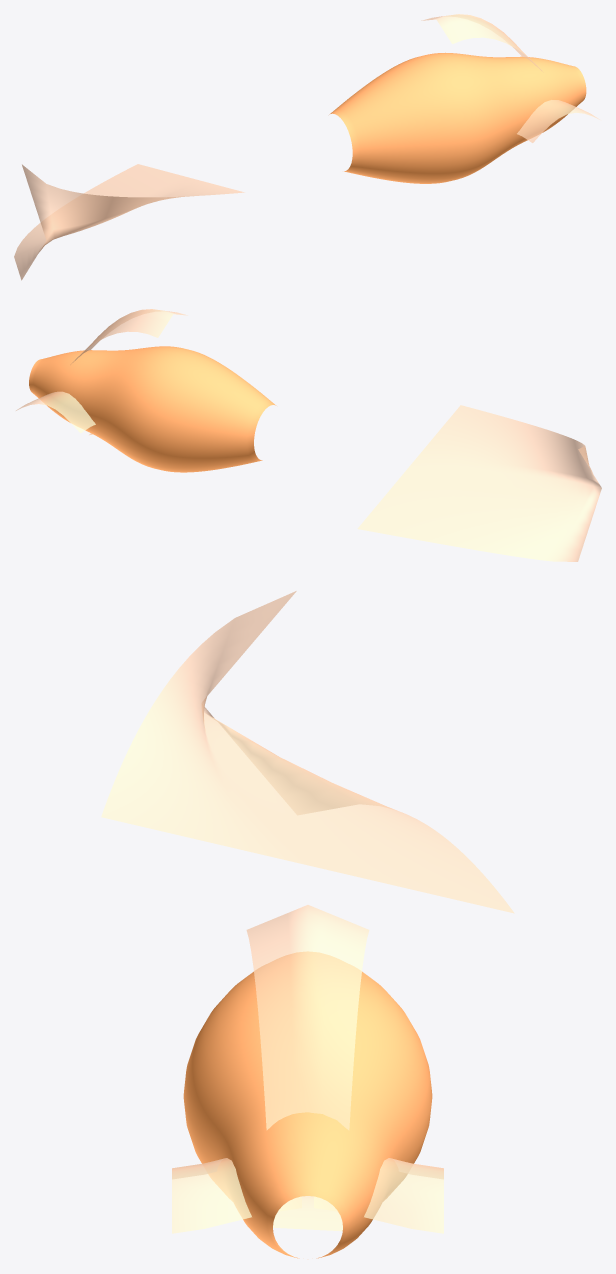
Rendered from goldfish.gltf.
3 renders of one model, top to bottom at view 1: azimuth 30°, elevation 25°; view 2: azimuth 150°, elevation 25°; view 3: azimuth 270°, elevation 25°, orthographic. The views are drawn at different scales.
Visible parts, largest first — view 1: Body, Tail, Dorsal, PectoralL; view 2: Tail, Body, Dorsal, PectoralR; view 3: Body, Tail, Dorsal, PectoralL, PectoralR, Pelvic.
Boxes of the visible parts, bbox=[...] form: Body: bbox=[329, 52, 586, 183]; Tail: bbox=[14, 164, 244, 280]; Dorsal: bbox=[421, 14, 543, 72]; PectoralL: bbox=[517, 100, 599, 142]; Tail: bbox=[357, 405, 601, 561]; Body: bbox=[29, 346, 276, 472]; Dorsal: bbox=[70, 309, 187, 364]; PectoralR: bbox=[16, 391, 95, 433]; Body: bbox=[183, 951, 432, 1258]; Tail: bbox=[101, 591, 514, 913]; Dorsal: bbox=[246, 905, 369, 1130]; PectoralL: bbox=[172, 1158, 301, 1233]; PectoralR: bbox=[314, 1158, 443, 1233]; Pelvic: bbox=[273, 1196, 342, 1231].
Size of the model in its own units: 2.1 by 0.5702 by 0.7.
